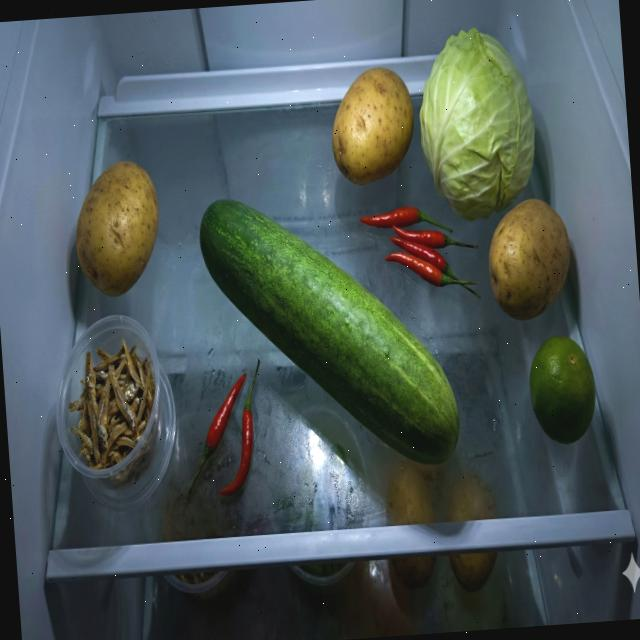anchovies: (63, 335, 162, 493)
cabbage: (412, 22, 540, 225)
chili: (174, 357, 269, 507), (358, 199, 482, 309)
cucumber: (197, 181, 462, 482)
lime: (525, 330, 599, 448)
potato: (70, 157, 164, 301), (484, 194, 576, 323), (326, 64, 420, 188)
